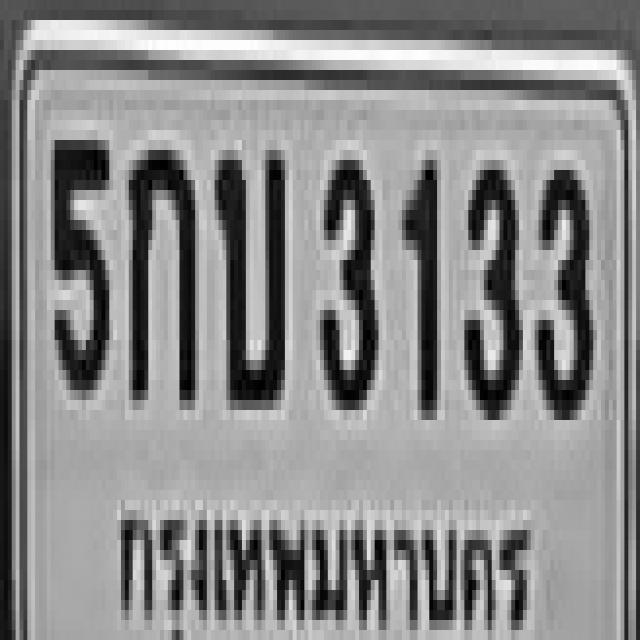1: (398, 150, 433, 410)
10GorGai: (125, 140, 191, 400)
3: (461, 150, 519, 410), (316, 150, 375, 400), (531, 160, 589, 410)
35BorBaiMai: (211, 140, 281, 400)
5: (47, 130, 105, 390)
Bangkok: (108, 482, 550, 640)
